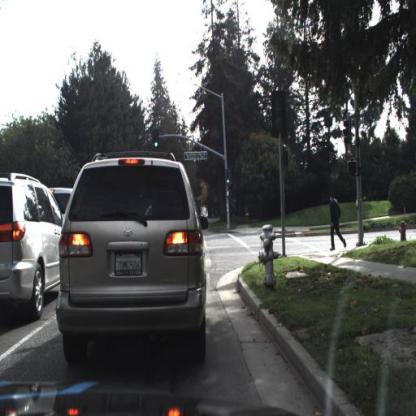car: (57, 151, 209, 361), (1, 170, 65, 313), (51, 184, 75, 218)
pedestrian: (328, 192, 348, 253)
trafficLight-Green: (153, 130, 161, 151), (224, 170, 232, 187)
